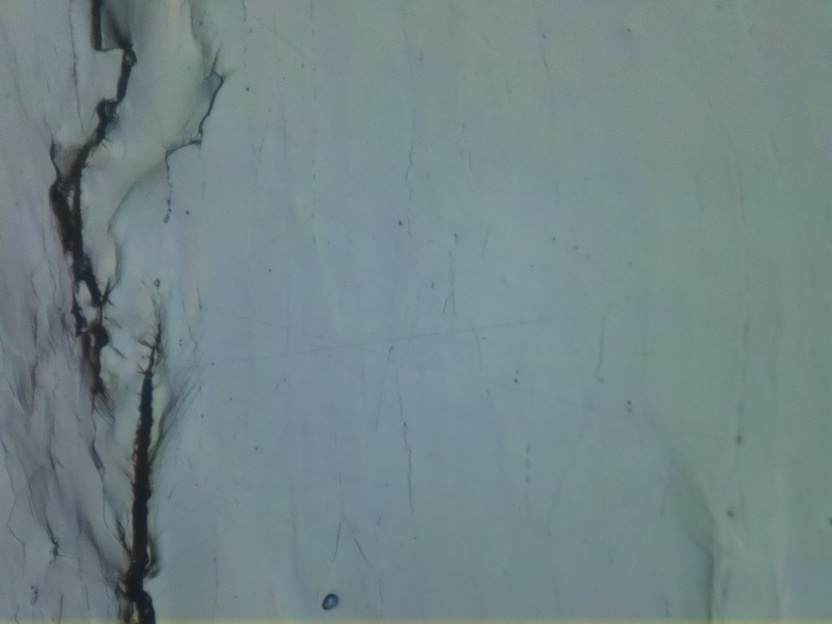crack: (51, 0, 132, 397), (116, 315, 171, 624), (161, 58, 228, 222)
